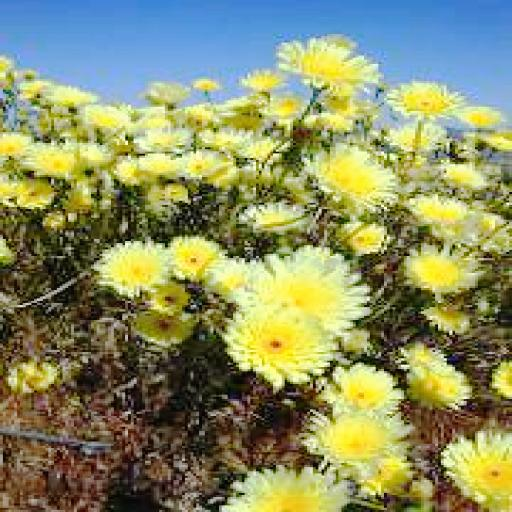dandelion: (219, 301, 336, 386), (302, 138, 401, 216), (273, 36, 384, 94), (313, 408, 409, 474), (222, 467, 355, 512), (441, 437, 512, 510), (319, 365, 398, 414), (97, 235, 168, 288), (165, 230, 228, 284), (407, 244, 475, 294), (413, 356, 472, 408), (171, 145, 239, 179), (34, 145, 83, 177), (11, 179, 60, 211)
